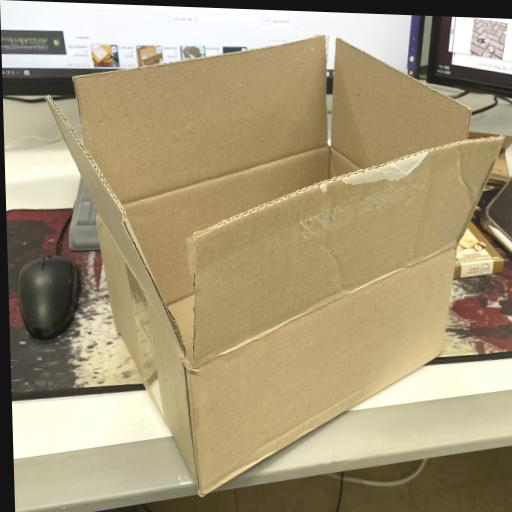box: (46, 35, 505, 499)
opened: (46, 35, 505, 368)
